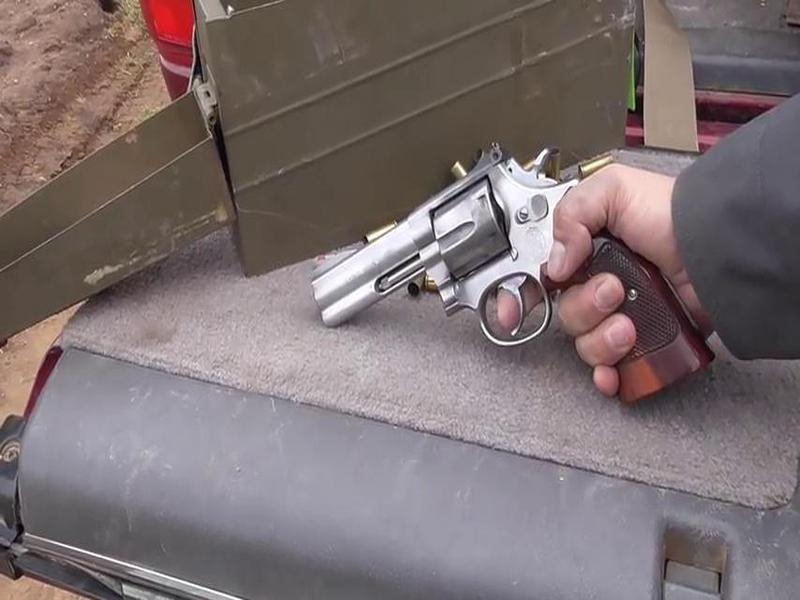Revolver: (315, 145, 643, 401)
